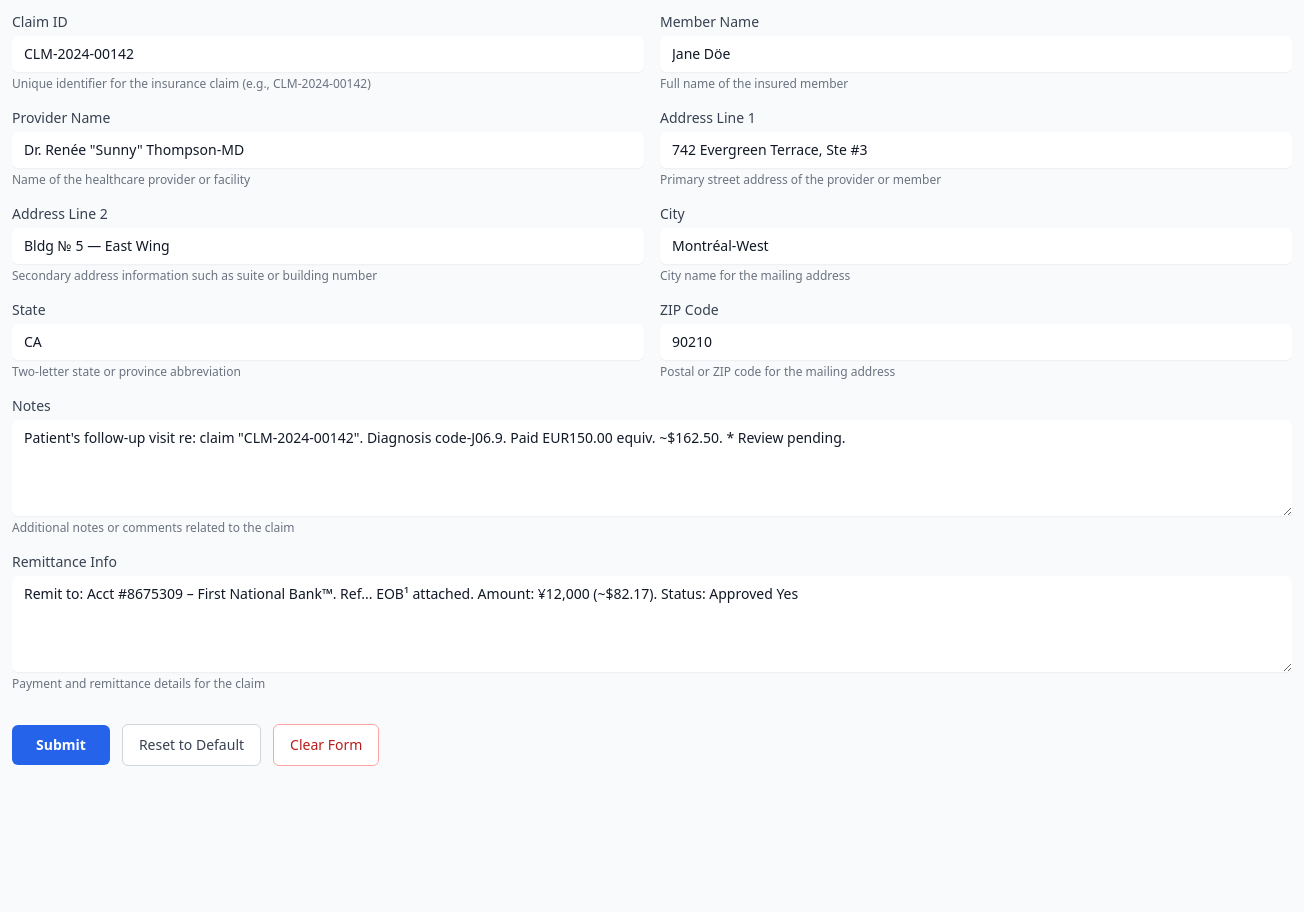
Test: DemoForm › submission with validation (Screen B) › shows Submission Accepted when all fields are valid
Click the button "Submit" at {"x": 61, "y": 745}, box [12,725,110,765]
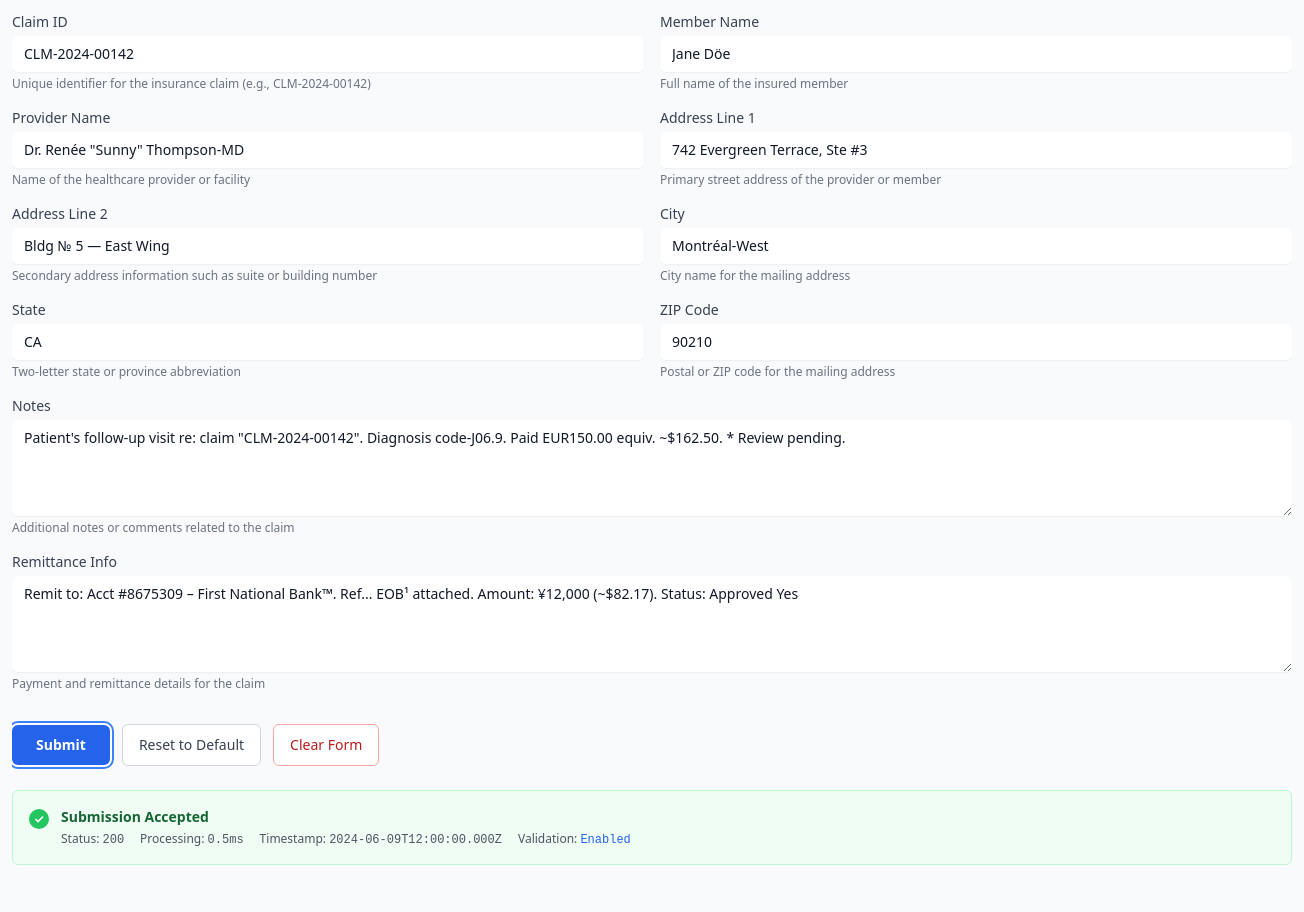
Expected: the message shows "Submission Accepted", [61,807,209,826]
